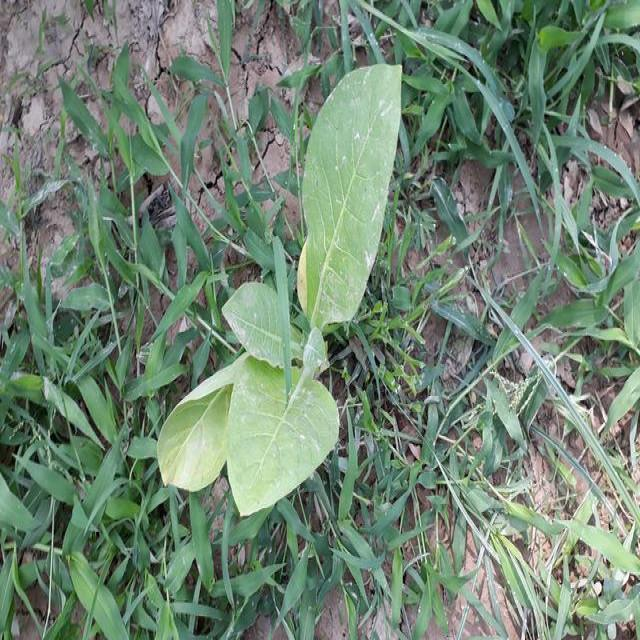crop: (156, 54, 407, 526), (149, 53, 397, 529)
